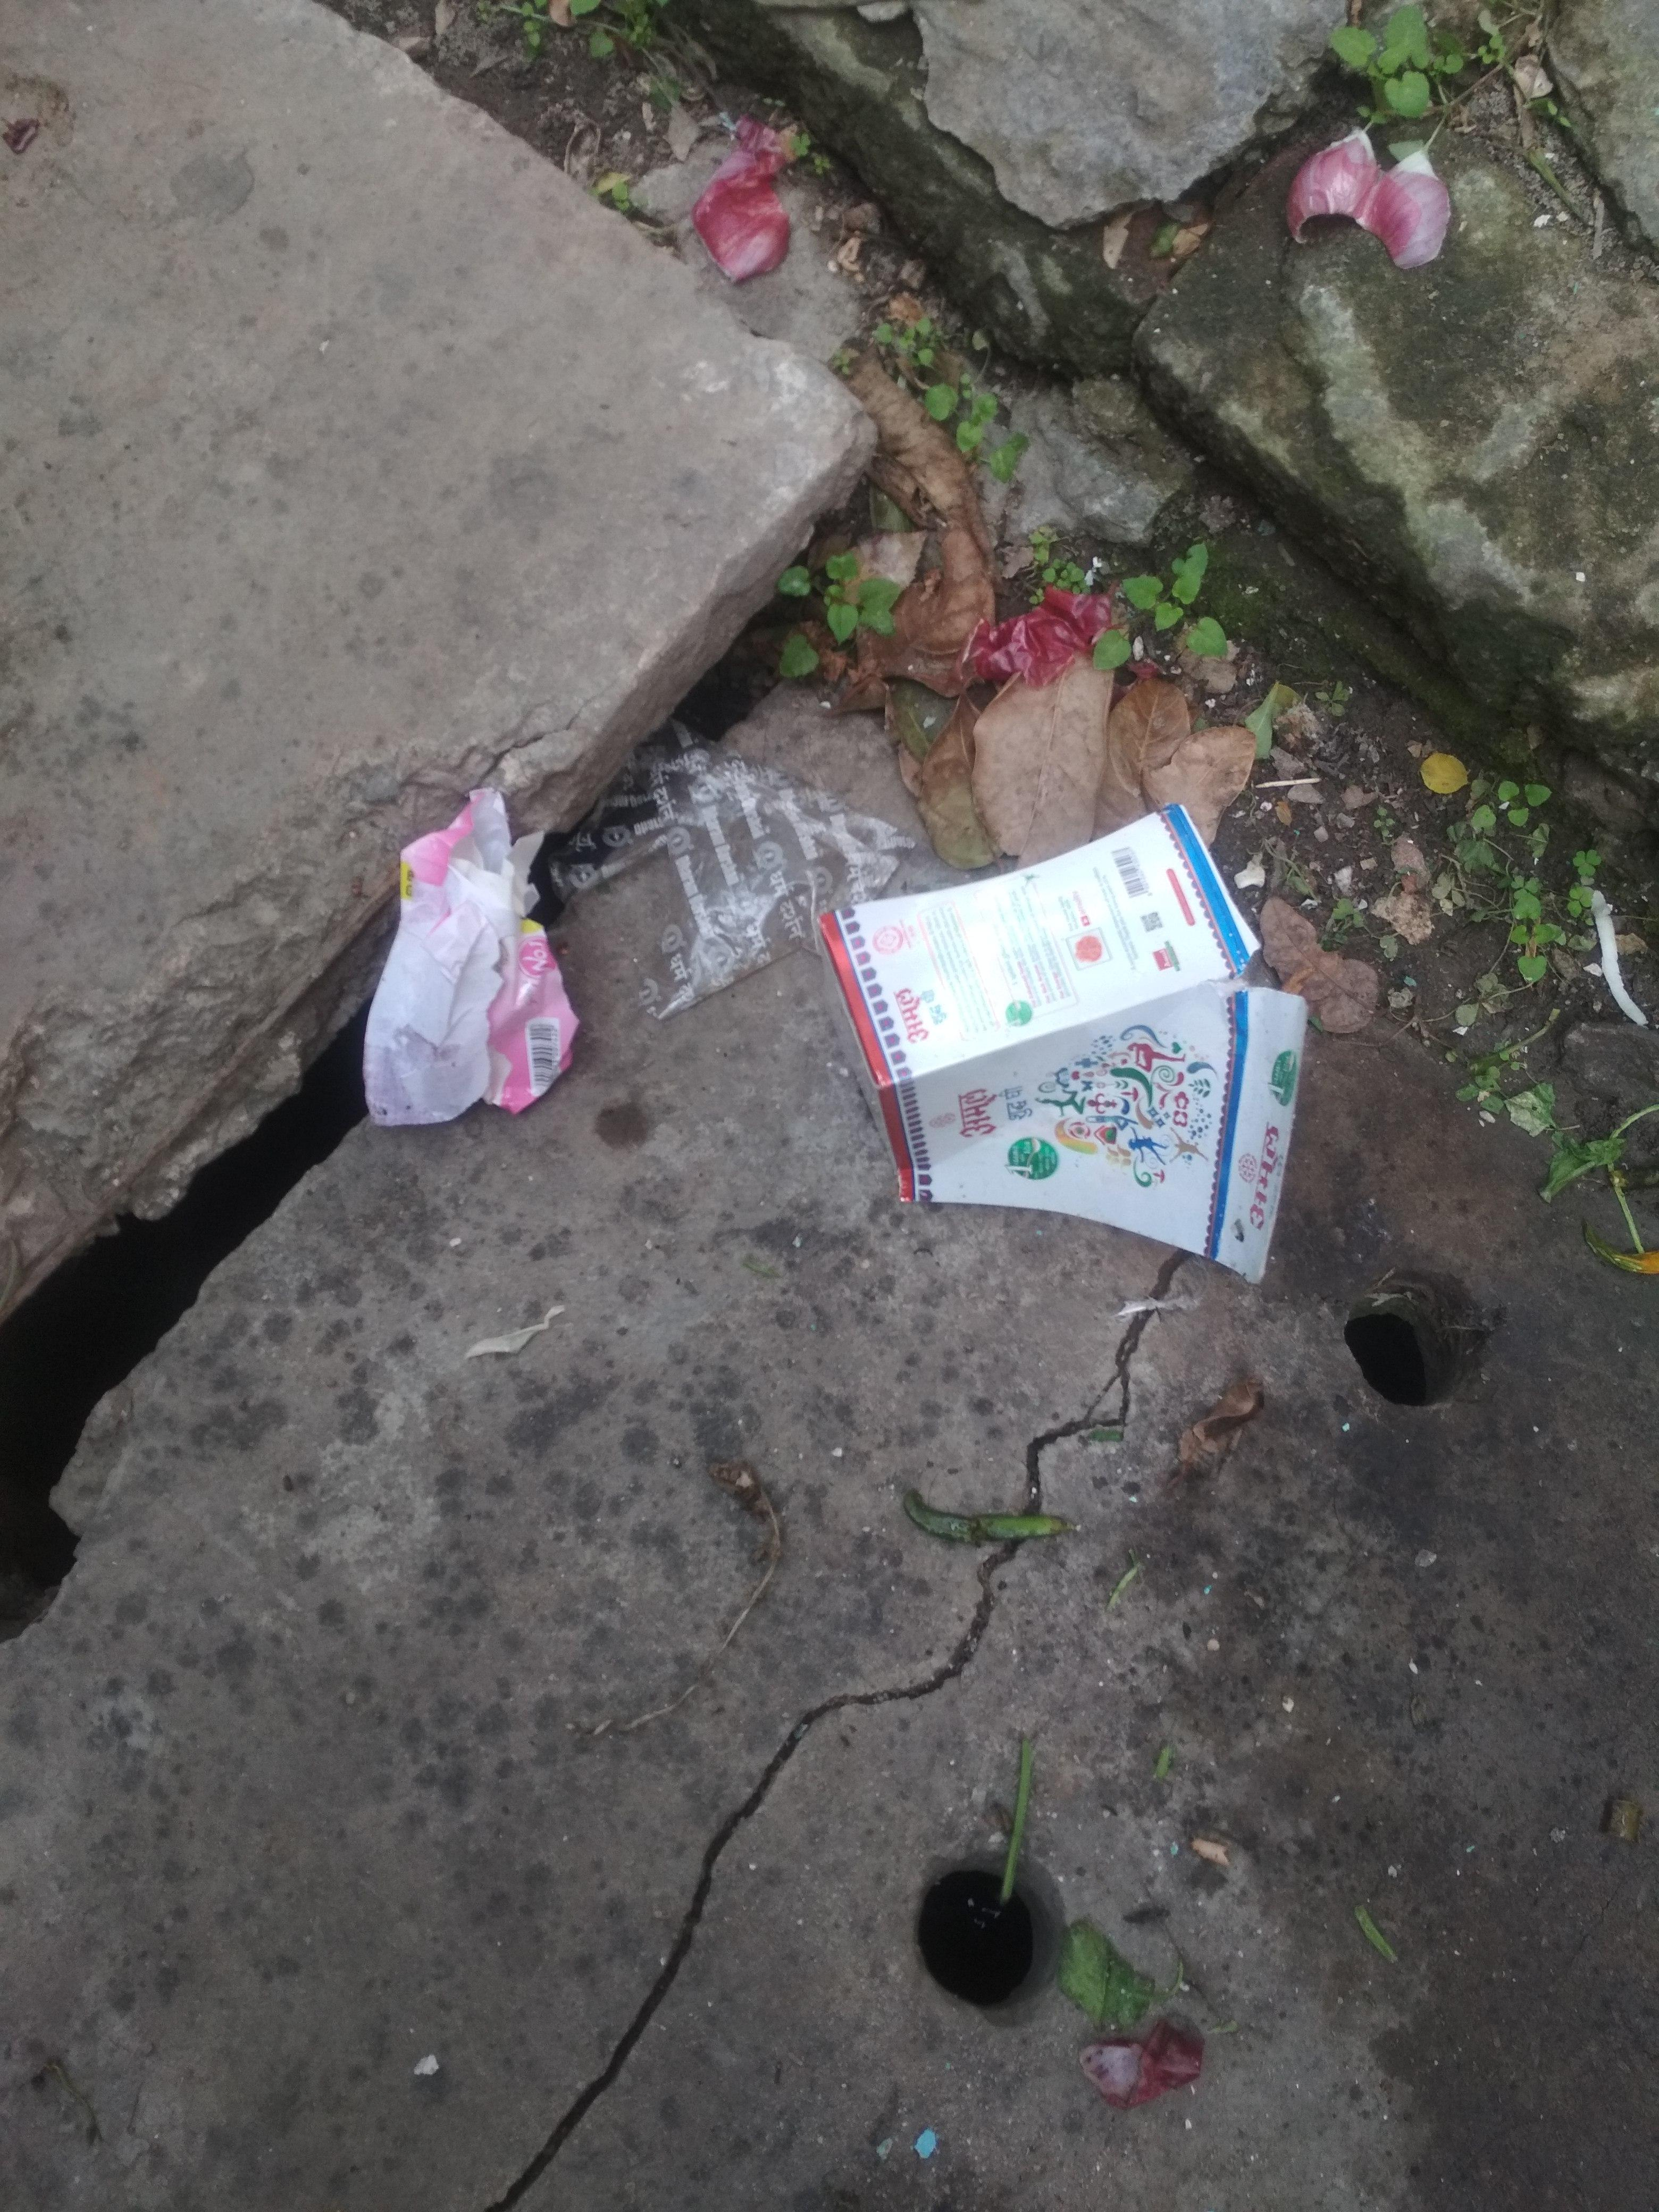trash: (352, 721, 1342, 1306)
